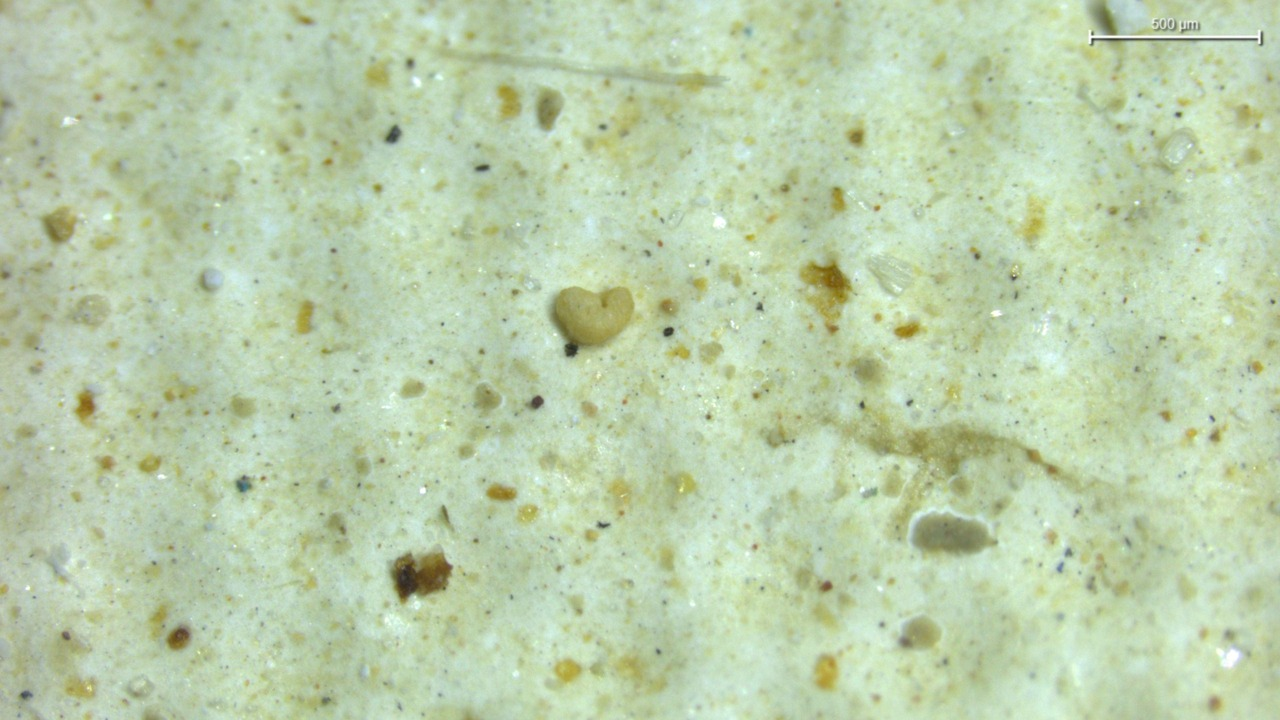microplastic_fragment: (554, 287, 634, 345)
